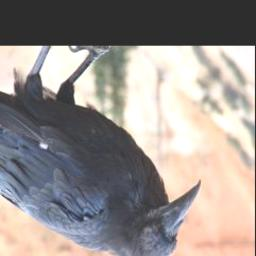Crow: (0, 47, 203, 256)
